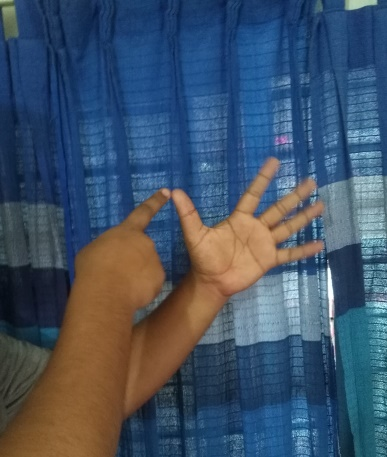a: (115, 158, 327, 270)
